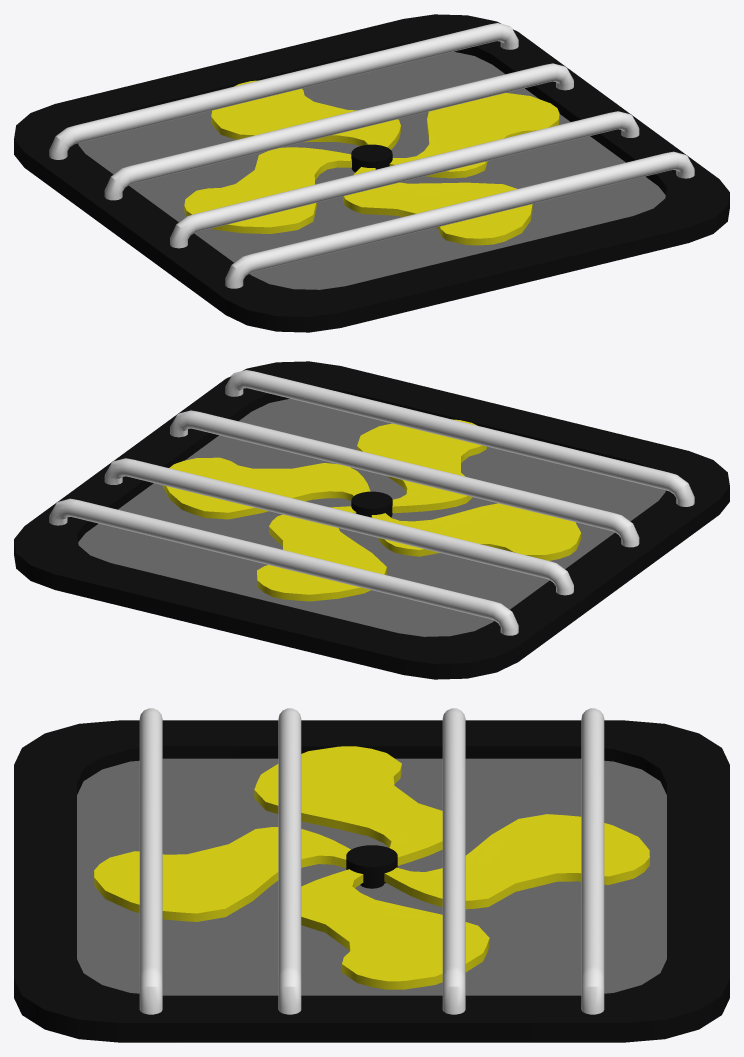
The model's file is Vent_01.fbx.
3 renders of one model, top to bottom at view 1: azimuth 30°, elevation 25°; view 2: azimuth 150°, elevation 25°; view 3: azimuth 270°, elevation 25°, orthographic. The views are drawn at different scales.
Parts seen in each view (by area): view 1: Corpus, Vint; view 2: Corpus, Vint; view 3: Corpus, Vint.
Part boxes in pixels (bbox=[...]): Corpus: bbox=[14, 14, 729, 332]; Vint: bbox=[184, 80, 559, 245]; Corpus: bbox=[14, 361, 729, 679]; Vint: bbox=[162, 419, 581, 601]; Corpus: bbox=[14, 708, 729, 1042]; Vint: bbox=[94, 746, 649, 989].
Size of the model in its own units: 200 by 16 by 200.
